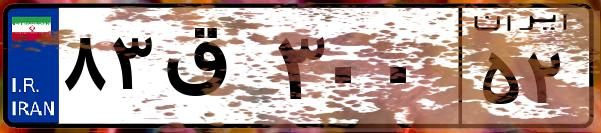0: (385, 28, 445, 110), (330, 28, 385, 110)
2: (525, 38, 570, 115)
3: (270, 28, 330, 110), (110, 28, 158, 98)
5: (475, 38, 525, 113)
8: (57, 26, 110, 100)
ق: (158, 20, 270, 120)
